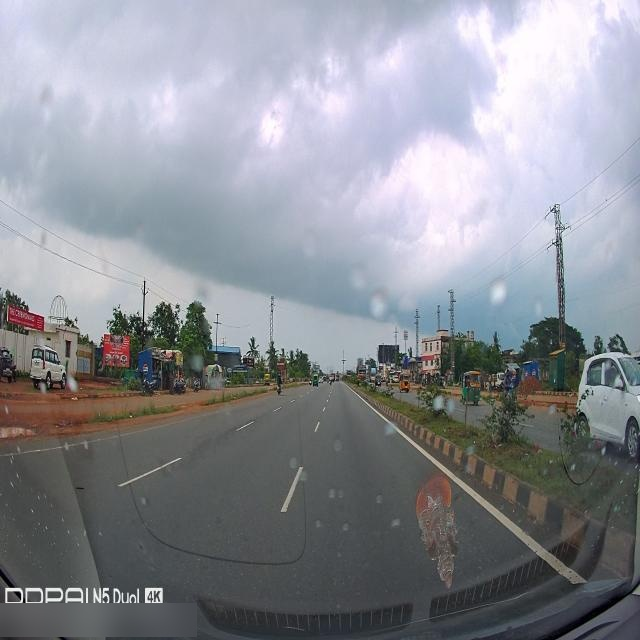pothole: (0, 416, 38, 450)
